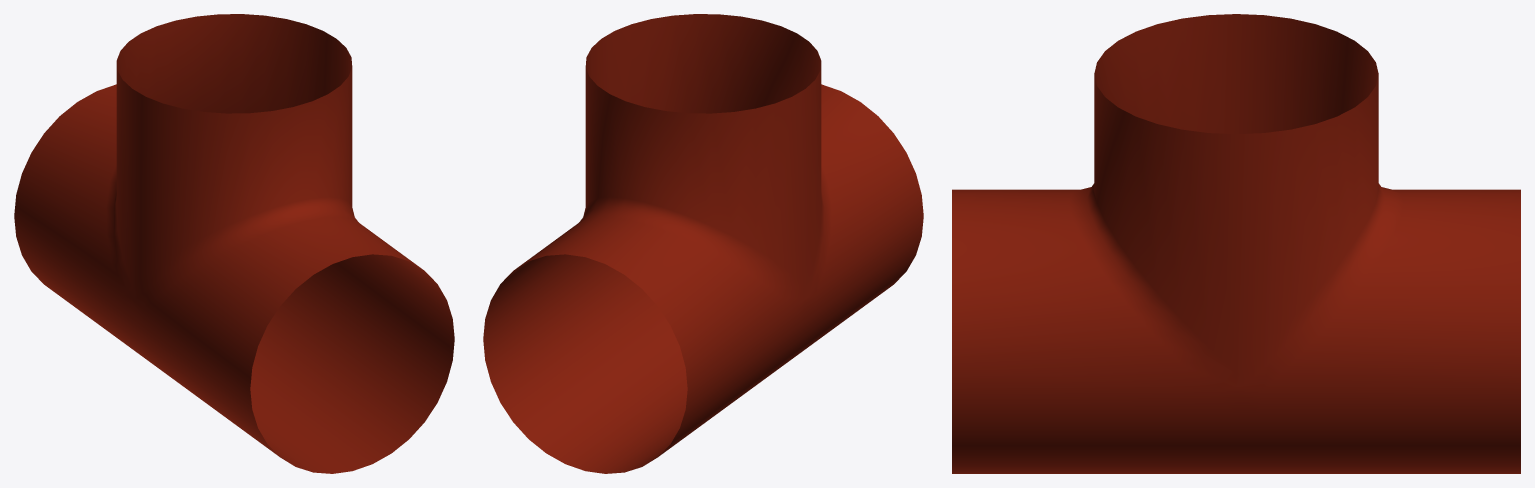
Rendered from Tpipe.fbx.
3 renders of one model, left to right at view 1: azimuth 30°, elevation 25°; view 2: azimuth 150°, elevation 25°; view 3: azimuth 270°, elevation 25°, orthographic. The views are drawn at different scales.
Parts seen in each view (by area): view 1: T piece; view 2: T piece; view 3: T piece.
Boxes of the visible parts, left/top/right/bottom form: T piece: left=14, top=14, right=454, bottom=473; T piece: left=483, top=14, right=923, bottom=473; T piece: left=952, top=14, right=1520, bottom=473.
Size of the model in its own units: 200 by 300 by 400.
